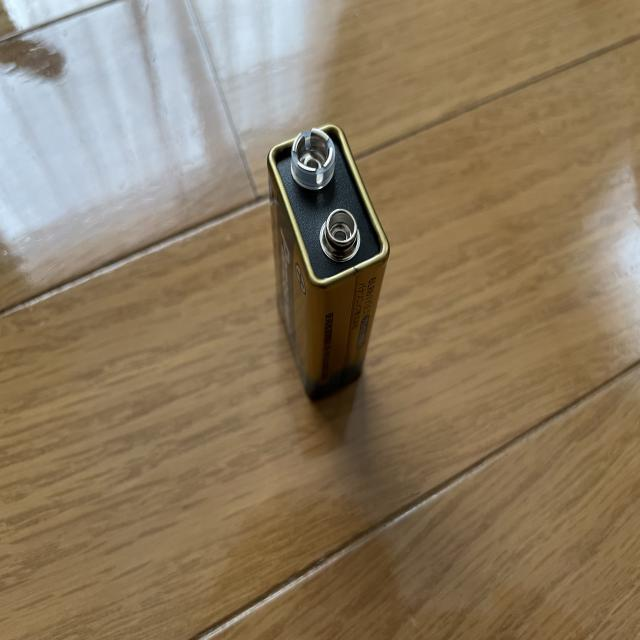9V: (262, 122, 391, 402)
